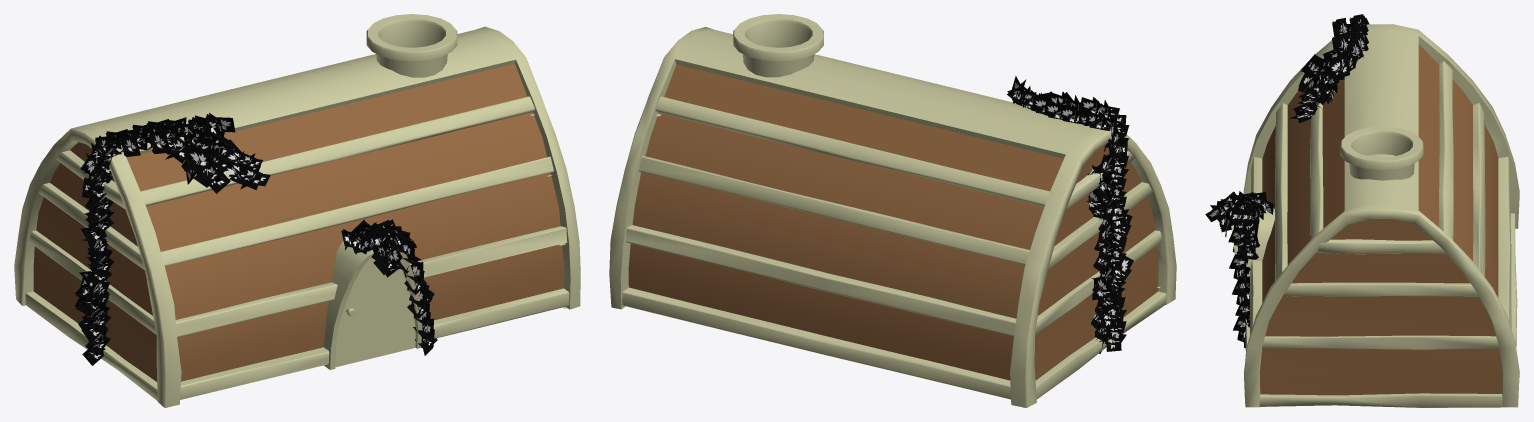
File: house00.fbx
3 views of the same model, side by side, from view 1: azimuth 30°, elevation 25°; view 2: azimuth 150°, elevation 25°; view 3: azimuth 270°, elevation 25° (orthographic). The views are drawn at different scales.
Parts seen in each view (by area): view 1: 组062; view 2: 组062; view 3: 组062.
Part boxes in pixels (left/top/right/bottom): 组062: left=14, top=14, right=580, bottom=407; 组062: left=609, top=14, right=1176, bottom=407; 组062: left=1205, top=14, right=1519, bottom=407.
Size of the model in its own units: 1051 by 584 by 718.
